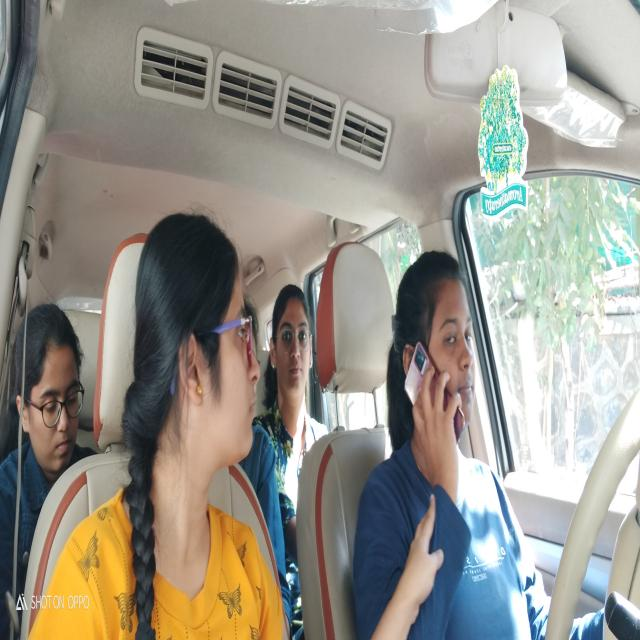mobile: (400, 337, 464, 460)
person: (388, 247, 486, 468), (202, 214, 268, 509), (10, 295, 91, 483), (267, 274, 319, 419)
